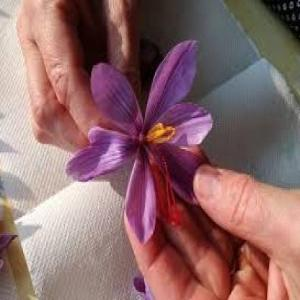Saffron: (67, 40, 213, 245)
